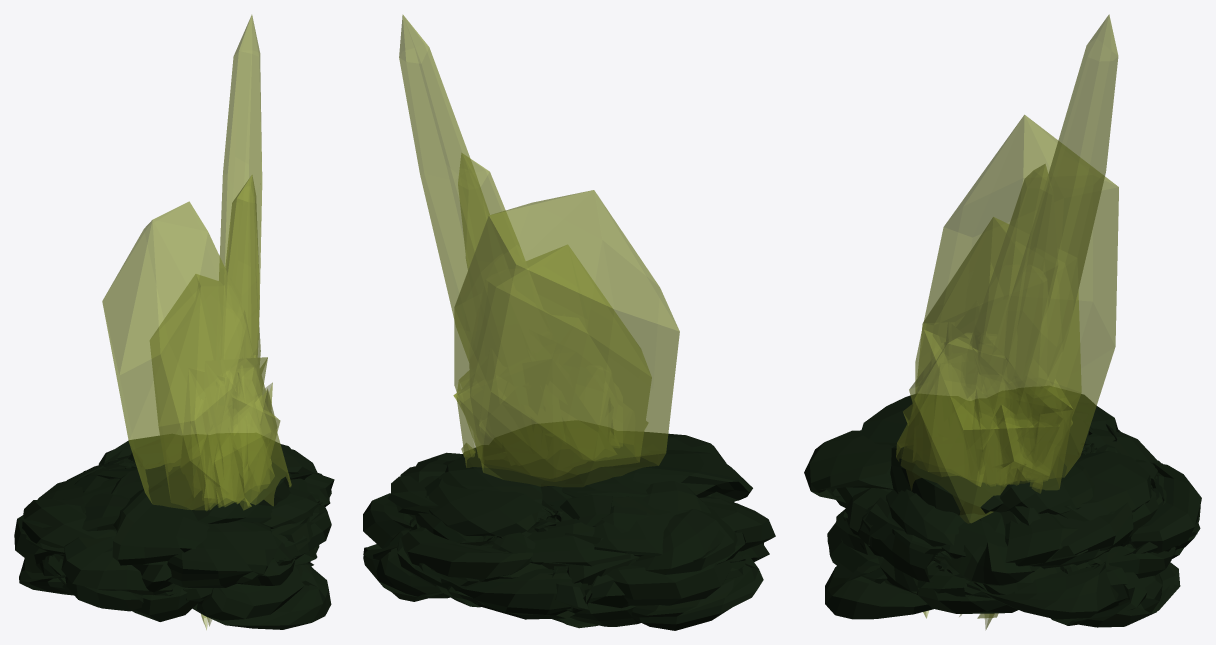
Rendered from crystal23.obj.
3 views of the same model, side by side, from view 1: azimuth 30°, elevation 25°; view 2: azimuth 150°, elevation 25°; view 3: azimuth 270°, elevation 25° (orthographic). The views are drawn at different scales.
Visible parts, largest first — view 1: Circle.001_Circle.002, Cube.001; view 2: Circle.001_Circle.002, Cube.001; view 3: Circle.001_Circle.002, Cube.001.
Part boxes in pixels (box(x1,y1,x2,y2)): Circle.001_Circle.002: box(102, 14, 291, 629); Cube.001: box(14, 436, 334, 629); Circle.001_Circle.002: box(399, 14, 679, 486); Cube.001: box(363, 432, 775, 630); Circle.001_Circle.002: box(896, 14, 1118, 630); Cube.001: box(804, 394, 1201, 627).
Size of the model in its own units: 2.51 by 4.04 by 2.18.
